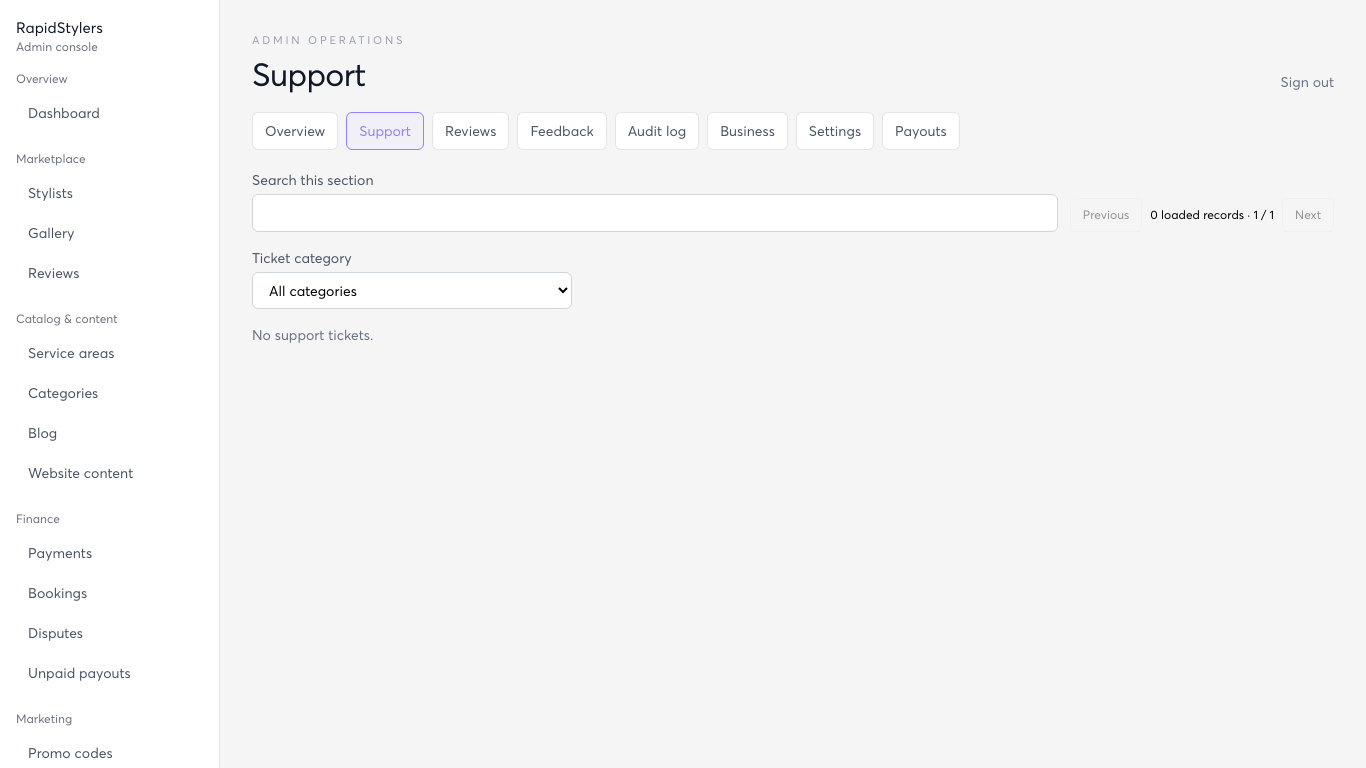
Test: support tickets by category › says when a category has no tickets
Expected: the text "No support tickets." is shown, [252,326,373,343]
Select "Account" in the dropdown labelled "Ticket category" at (412, 290), box [252,272,572,309]
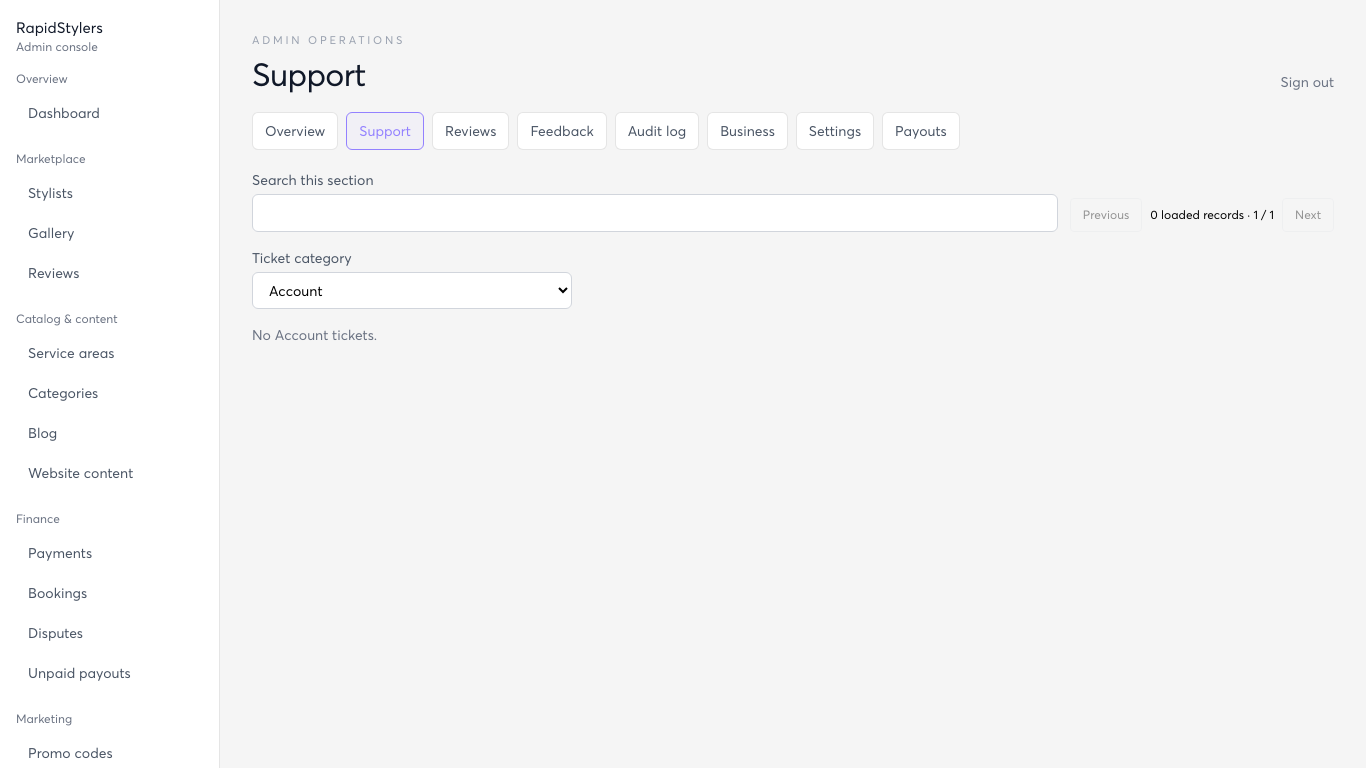
Now the text "No Account tickets." is shown, box [252,326,377,343]
